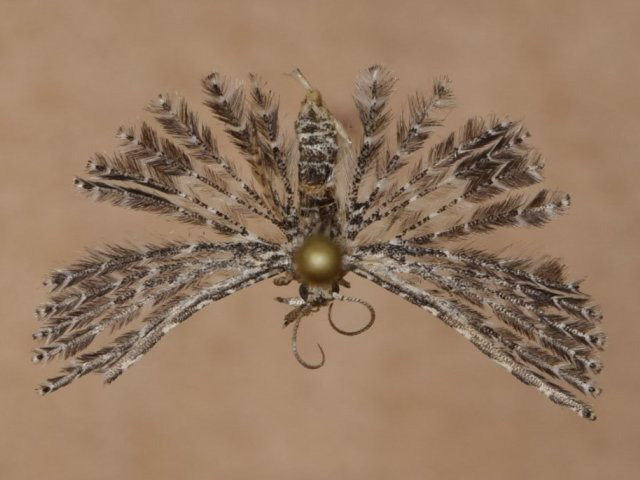Alucitidae: (34, 61, 614, 421)
moth: (36, 63, 616, 423)
